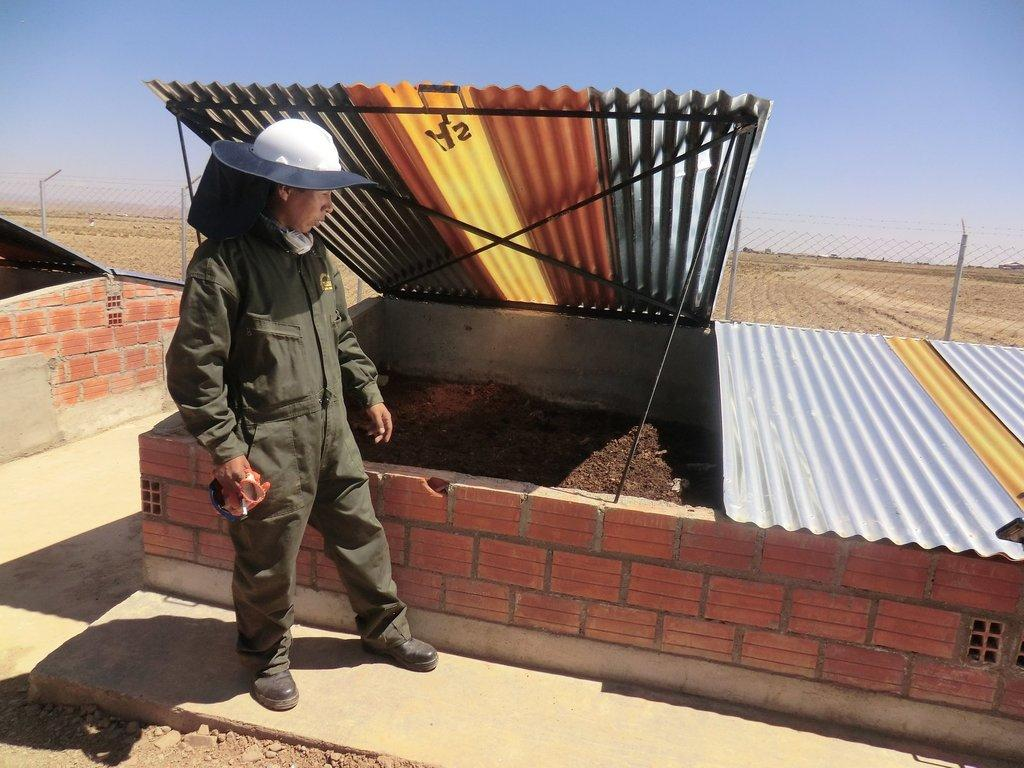Hat: (210, 113, 372, 195)
